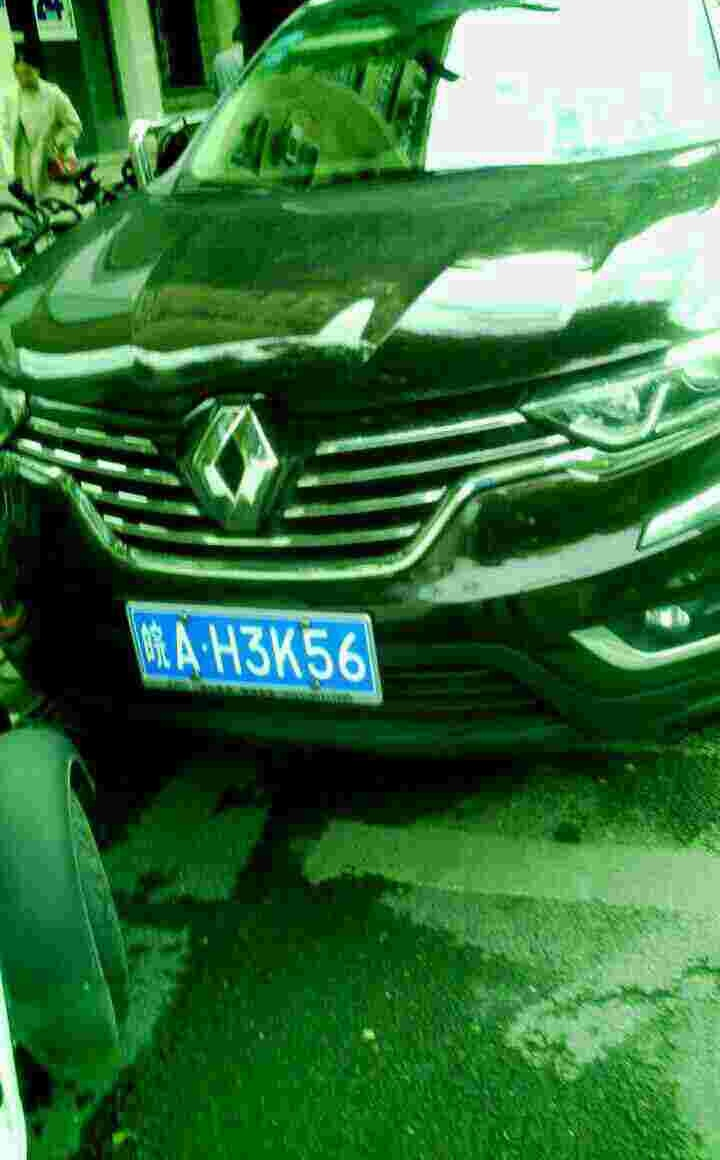license_plate: (142, 609, 377, 688)
